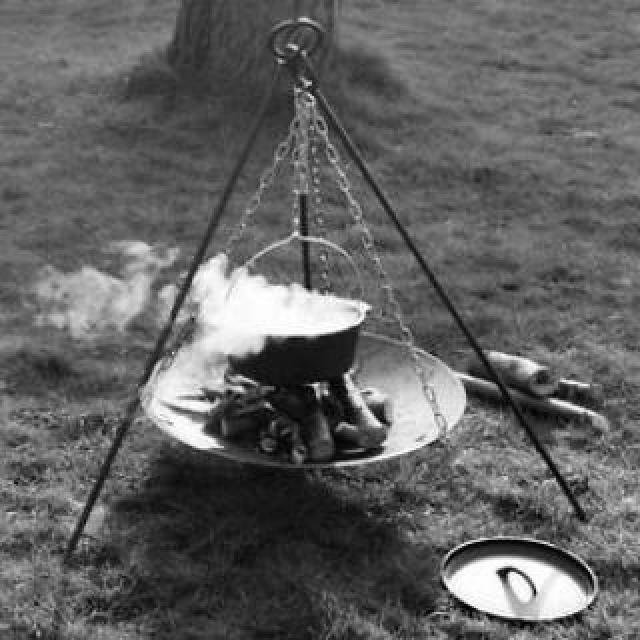Smoke: (16, 228, 346, 368)
